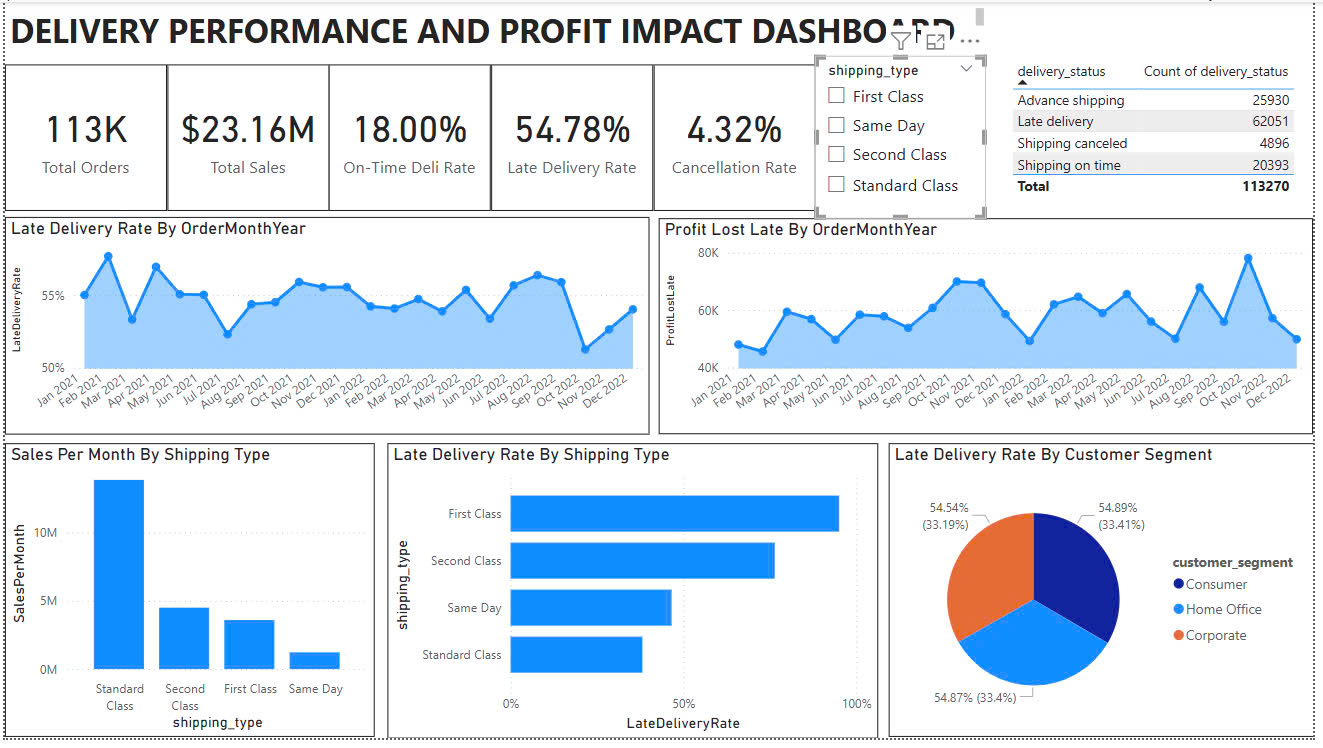

Layout of this report page (visuals, bound fields, positions):
{"tool":"powerbi","page":{"name":"Delivery","canvas":[1280,720],"ordinal":1},"visuals":[{"type":"lineChart","title":"Late Delivery Rate By OrderMonthYear","fields":{"Category":["Order Date.OrderMonthYear"],"Y":["Table.LateDeliveryRate"]},"box":[0,210,630,212.9],"z":0},{"type":"areaChart","title":"Profit Lost Late By OrderMonthYear","fields":{"Category":["Order Date.OrderMonthYear"],"Y":["Table.ProfitLostLate"]},"box":[640,211.4,640,211.4],"z":1000},{"type":"columnChart","title":"Sales Per Month By Shipping Type","fields":{"Category":["Ecommerce_data.shipping_type"],"Y":["Table.SalesPerMonth"]},"box":[0,431.4,361.4,287.1],"z":2000},{"type":"barChart","title":"Late Delivery Rate By Shipping Type","fields":{"Category":["Ecommerce_data.shipping_type"],"Y":["Table.LateDeliveryRate"]},"box":[374.3,431.4,480,288.6],"z":3000},{"type":"pieChart","title":"Late Delivery Rate By Customer Segment","fields":{"Category":["Ecommerce_data.customer_segment"],"Y":["Table.LateDeliveryRate"]},"box":[864.3,431.4,415.7,287.1],"z":4000},{"type":"tableEx","fields":{"Values":["Ecommerce_data.delivery_status","CountNonNull(Ecommerce_data.delivery_status)"]},"box":[980,51.4,300,158.6],"z":5000},{"type":"slicer","fields":{"Values":["Ecommerce_data.shipping_type"]},"box":[792.9,52.9,167.1,158.6],"z":6000},{"type":"card","fields":{"Values":["Table.TotalOrders"]},"box":[0,61.4,158.6,142.9],"z":7000},{"type":"card","fields":{"Values":["Table.TotalSales"]},"box":[158.6,61.4,158.6,142.9],"z":8000},{"type":"card","fields":{"Values":["Table.OnTimeRate"]},"box":[317.1,61.4,158.6,142.9],"z":9000},{"type":"card","fields":{"Values":["Table.LateDeliveryRate"]},"box":[475.7,61.4,158.6,142.9],"z":10000},{"type":"card","fields":{"Values":["Table.CancellationRate"]},"box":[634.3,61.4,158.6,142.9],"z":11000},{"type":"textbox","box":[0,1.4,962.9,51.4],"z":12000}]}

Visuals, with their boxes in screenshot pixels (x1, y1, x2, y2):
"Late Delivery Rate By OrderMonthYear" lineChart: 0:218:642:435
"Profit Lost Late By OrderMonthYear" areaChart: 652:219:1305:434
"Sales Per Month By Shipping Type" columnChart: 0:443:368:736
"Late Delivery Rate By Shipping Type" barChart: 382:443:871:737
"Late Delivery Rate By Customer Segment" pieChart: 881:443:1305:736
tableEx - Ecommerce_data.delivery_status x CountNonNull(Ecommerce_data.delivery_status): 999:56:1305:218
slicer - Ecommerce_data.shipping_type: 808:57:979:219
card - Table.TotalOrders: 0:66:162:212
card - Table.TotalSales: 162:66:323:212
card - Table.OnTimeRate: 323:66:485:212
card - Table.LateDeliveryRate: 485:66:647:212
card - Table.CancellationRate: 647:66:808:212
textbox: 0:5:981:57
